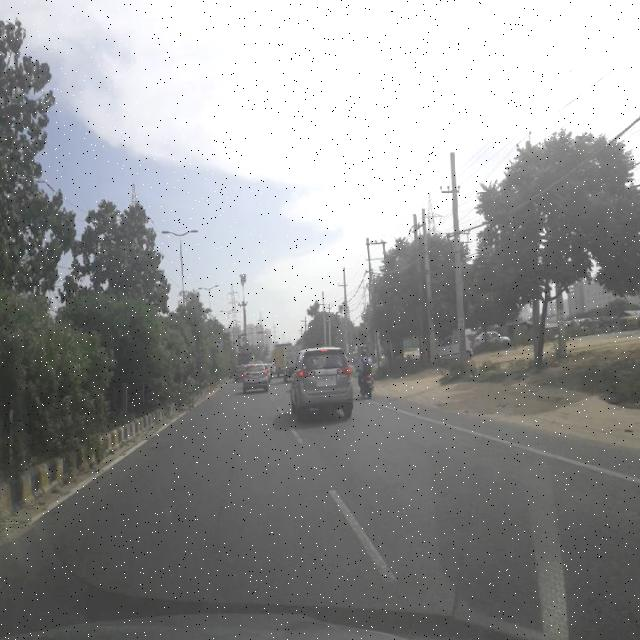D20: (16, 457, 640, 623)
